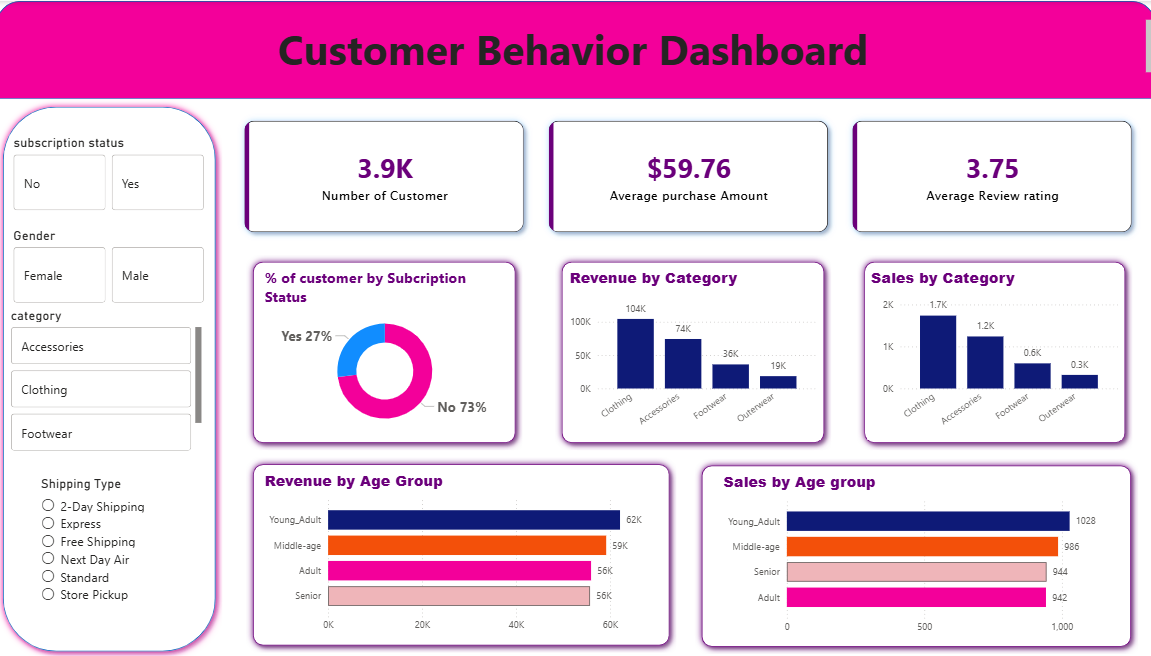

What the dashboard file says about the page in this screenshot:
{"tool":"powerbi","page":{"name":"Page 1","canvas":[1500,850],"ordinal":0},"visuals":[{"type":"cardVisual","fields":{"Data":["public customer.Number of Customer","public customer.Average purchase Amount","public customer.Averafe Review rating"]},"box":[292.8,126.5,1207.5,202.5],"z":0},{"type":"shape","box":[0,0,1500.4,126.5],"z":1000},{"type":"textbox","box":[0,19.9,1500.4,79.5],"z":2000},{"type":"shape","box":[322.6,328.1,357.6,252.5],"z":3000},{"type":"donutChart","title":"% of customer by Subcription Status","fields":{"Category":["public customer.subscription_status"],"Y":["CountNonNull(public customer.customer_id)"]},"box":[342.8,344.7,320.7,219.3],"z":4000},{"type":"shape","box":[722.5,328.1,357.6,252.5],"z":5000},{"type":"shape","box":[1113.3,328.1,355.7,252.5],"z":6000},{"type":"clusteredColumnChart","title":"Revenue by Category","fields":{"Y":["Sum(public customer.purchase_amount)"],"Category":["public customer.category"]},"box":[737.3,344.7,329.9,223],"z":7000},{"type":"clusteredColumnChart","title":"Sales by Category","fields":{"Y":["CountNonNull(public customer.customer_id)"],"Category":["public customer.category"]},"box":[1126.2,344.7,329.9,223],"z":8000},{"type":"shape","box":[0,127.2,293.1,722.5],"z":9000},{"type":"advancedSlicerVisual","fields":{"Values":["public customer.subscription_status"]},"box":[18.4,173.3,256.2,103.2],"z":10000},{"type":"advancedSlicerVisual","fields":{"Values":["public customer.gender"]},"box":[18.4,293.1,256.2,103.2],"z":11000},{"type":"advancedSlicerVisual","fields":{"Values":["public customer.category"]},"box":[14.7,396.3,256.2,193.5],"z":12000},{"type":"listSlicer","fields":{"Values":["public customer.shipping_type"]},"box":[53.5,613.8,189.9,219.3],"z":13000},{"type":"shape","box":[322.6,589.8,556.6,252.5],"z":14000},{"type":"shape","box":[903.2,591.7,573.2,252.5],"z":15000},{"type":"clusteredBarChart","title":"Revenue by Age Group","fields":{"Y":["Sum(public customer.purchase_amount)"],"Category":["public customer.age_group"]},"box":[342.8,606.4,508.7,219.3],"z":16000},{"type":"clusteredBarChart","title":"Sales by Age group","fields":{"Y":["CountNonNull(public customer.customer_id)"],"Category":["public customer.age_group"]},"box":[936.4,608.3,508.7,219.3],"z":17000}]}

Visuals, with their boxes in screenshot pixels (x1, y1, x2, y2), scaled from the page's 1500x850 canvas onto the 1151x656 screenshot:
cardVisual - public customer.Number of Customer x public customer.Average purchase Amount: <region>225, 98, 1150, 254</region>
shape: <region>0, 0, 1150, 98</region>
textbox: <region>0, 15, 1150, 77</region>
shape: <region>248, 253, 522, 448</region>
"% of customer by Subcription Status" donutChart: <region>263, 266, 509, 435</region>
shape: <region>554, 253, 829, 448</region>
shape: <region>854, 253, 1127, 448</region>
"Revenue by Category" clusteredColumnChart: <region>566, 266, 819, 438</region>
"Sales by Category" clusteredColumnChart: <region>864, 266, 1117, 438</region>
shape: <region>0, 98, 225, 655</region>
advancedSlicerVisual - public customer.subscription_status: <region>14, 134, 211, 213</region>
advancedSlicerVisual - public customer.gender: <region>14, 226, 211, 306</region>
advancedSlicerVisual - public customer.category: <region>11, 306, 208, 455</region>
listSlicer - public customer.shipping_type: <region>41, 474, 187, 643</region>
shape: <region>248, 455, 675, 650</region>
shape: <region>693, 457, 1133, 652</region>
"Revenue by Age Group" clusteredBarChart: <region>263, 468, 653, 637</region>
"Sales by Age group" clusteredBarChart: <region>719, 469, 1109, 639</region>
